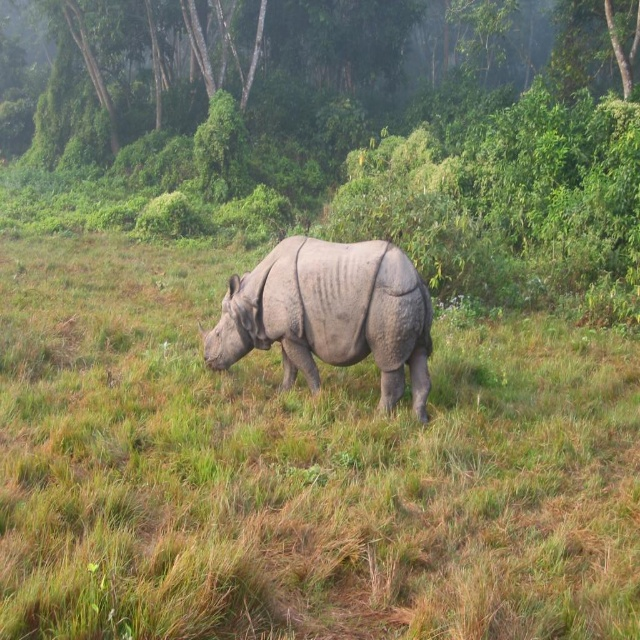Rhinoceros: (198, 235, 433, 423)
